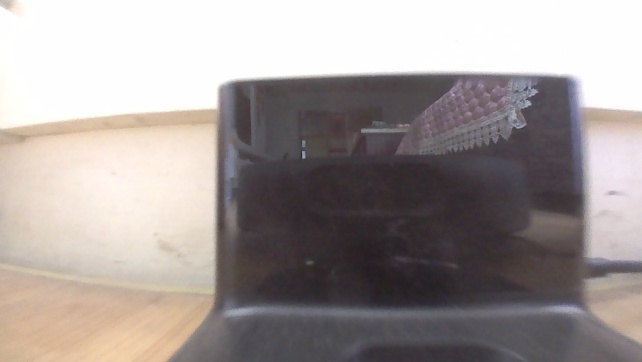wire: (580, 251, 641, 285)
